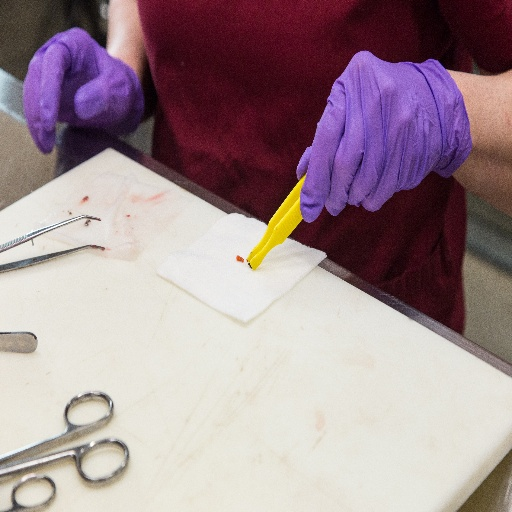hand: (295, 47, 453, 223), (21, 25, 134, 157)
